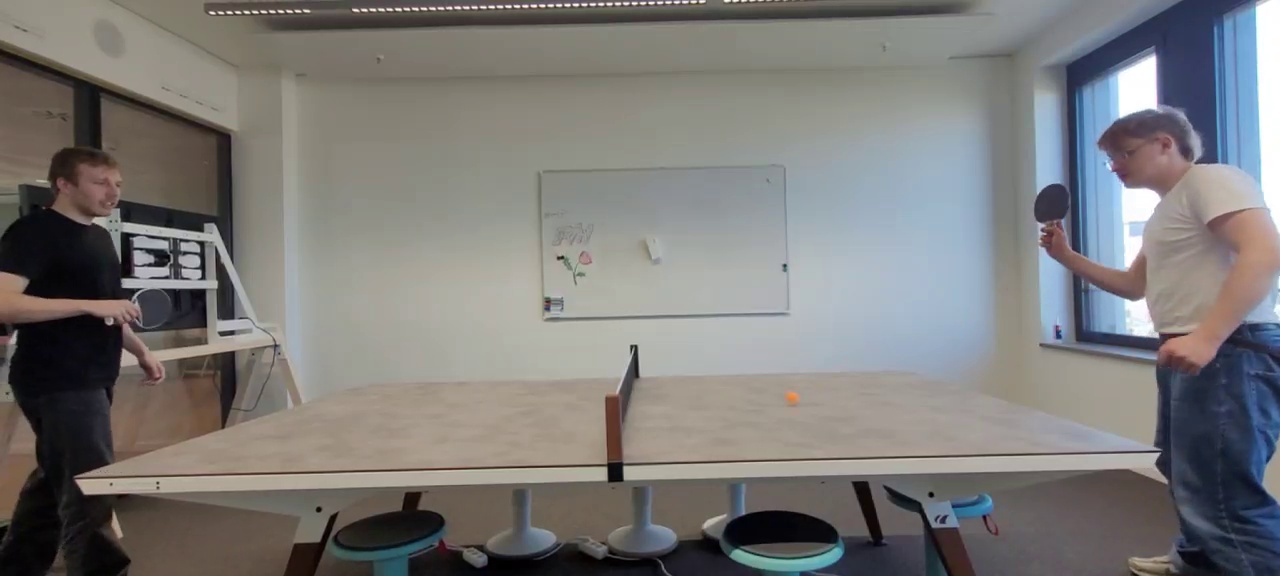plate: (75, 369, 1161, 480)
racket: (131, 289, 171, 329), (1034, 183, 1069, 226)
ttball: (785, 392, 799, 405)
